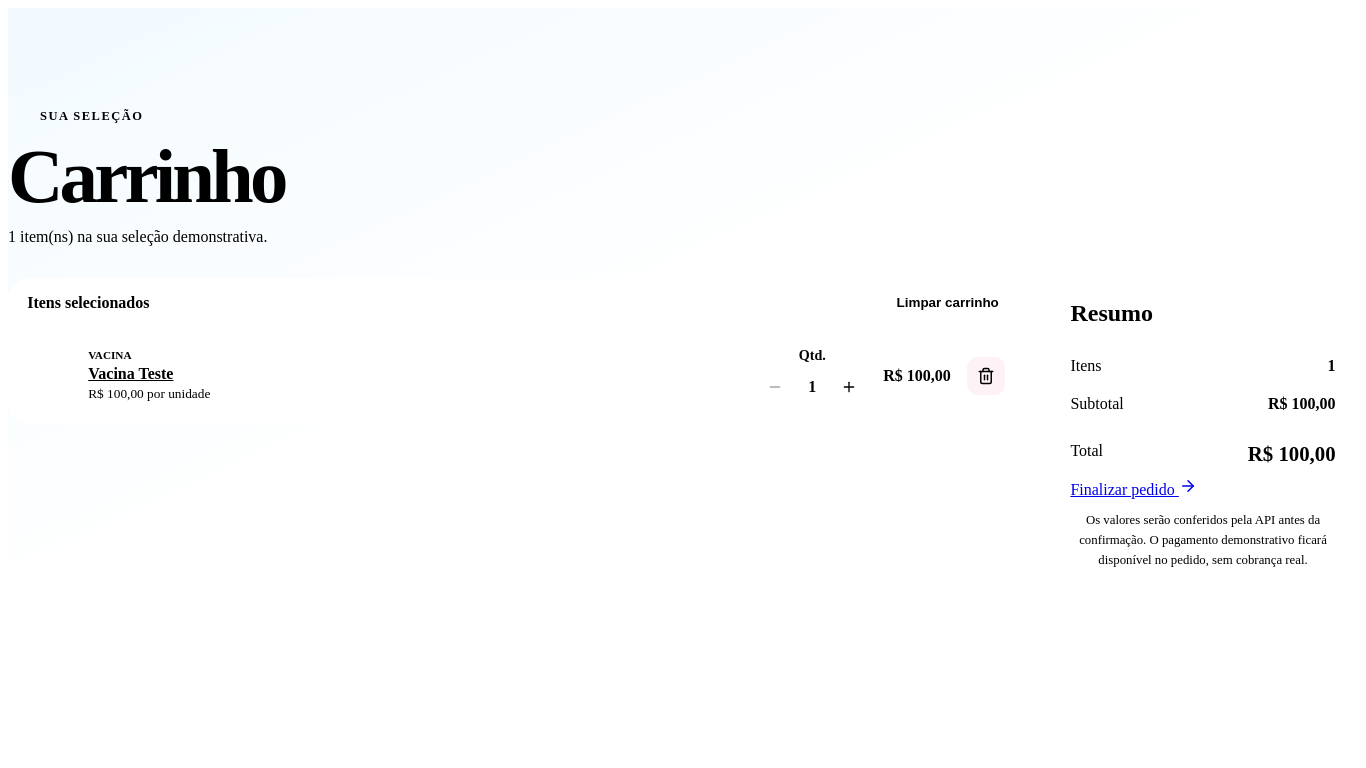
Test: CartPage › altera quantidade, recalcula subtotal e remove o item
Expected: the text "R$ 100,00" in the row of "Vacina Teste" is shown, [883,367,951,384]
Click the button named "Aumentar quantidade". click: x=849, y=387
box: [831,369,867,405]
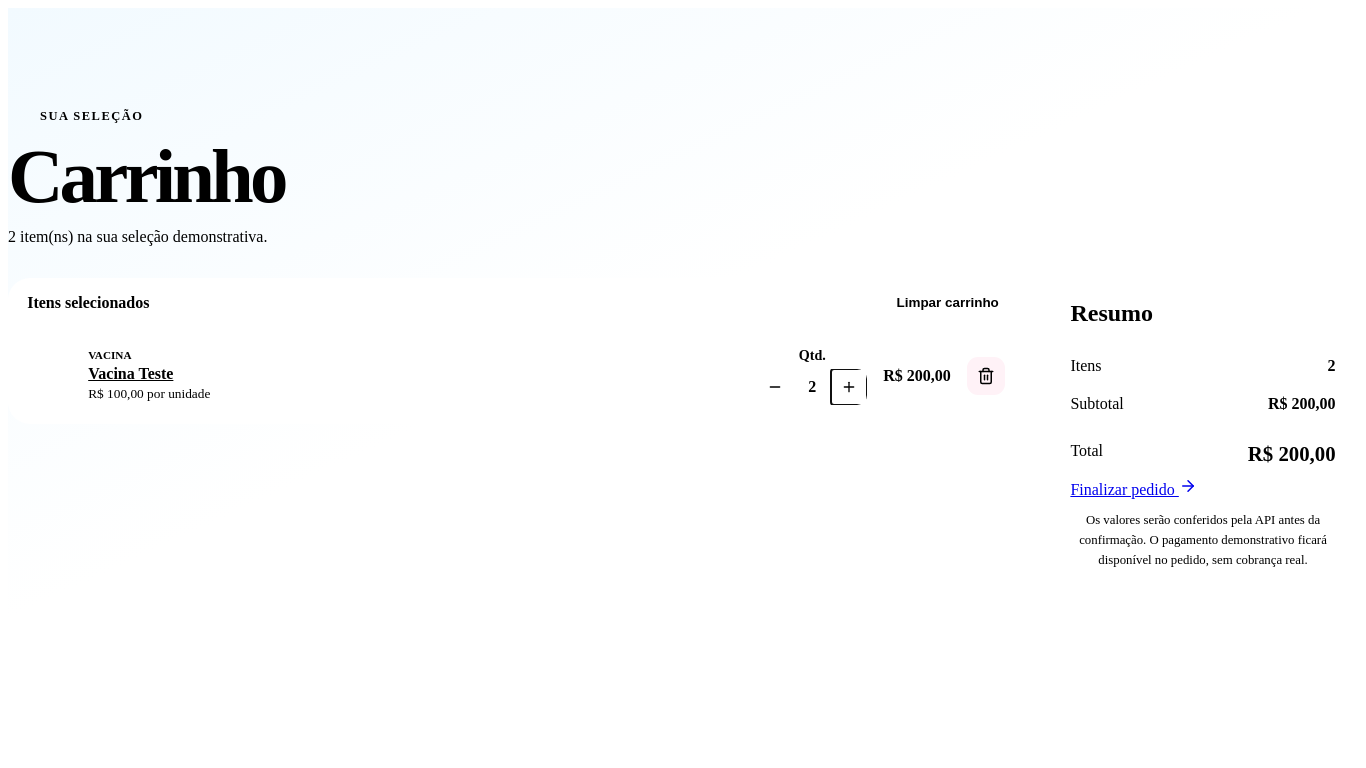
Expected: the text "R$ 200,00" in the row of "Vacina Teste" is shown, [883,367,951,384]
Click the button named "Remover Vacina Teste". click: x=986, y=376
box: [967,357,1005,395]
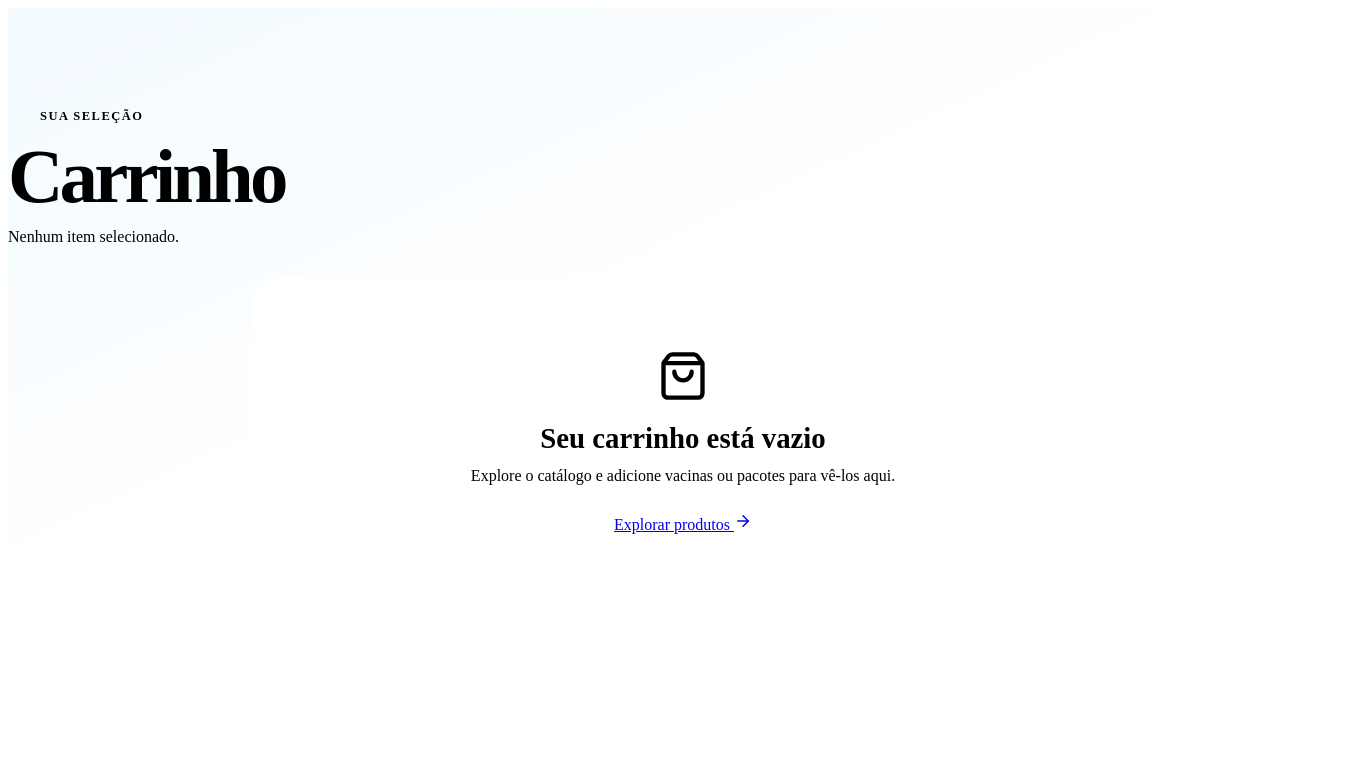
Expected: the heading "Seu carrinho está vazio" is shown, [540,422,826,454]
